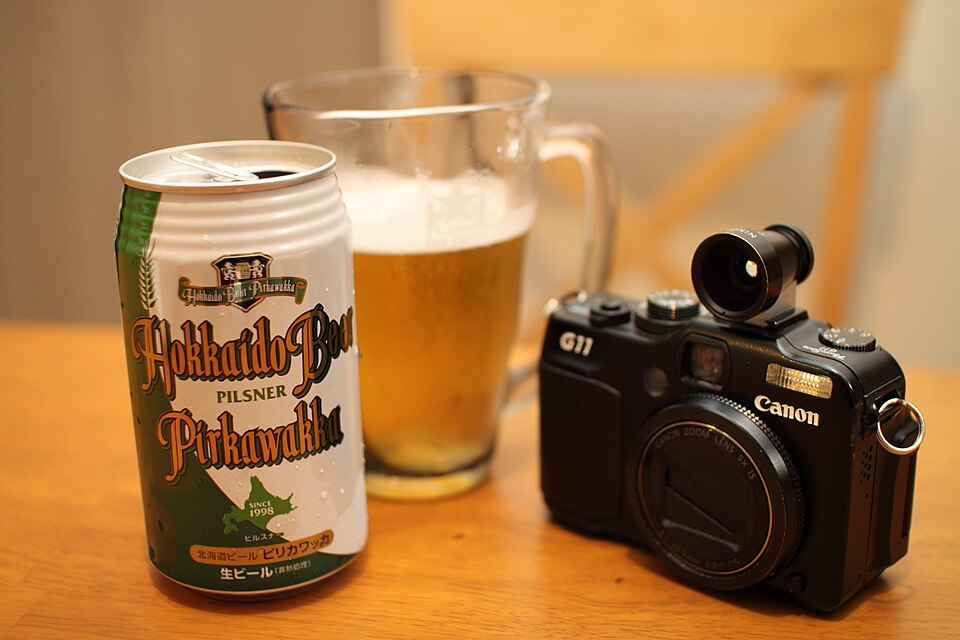beer-can: (108, 135, 374, 617)
